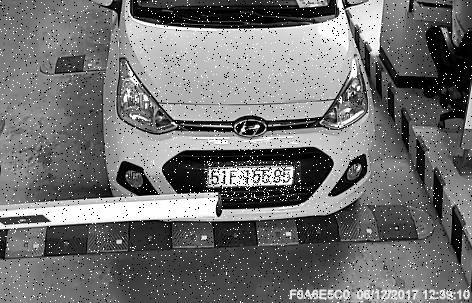License-plate: (205, 162, 302, 202)
